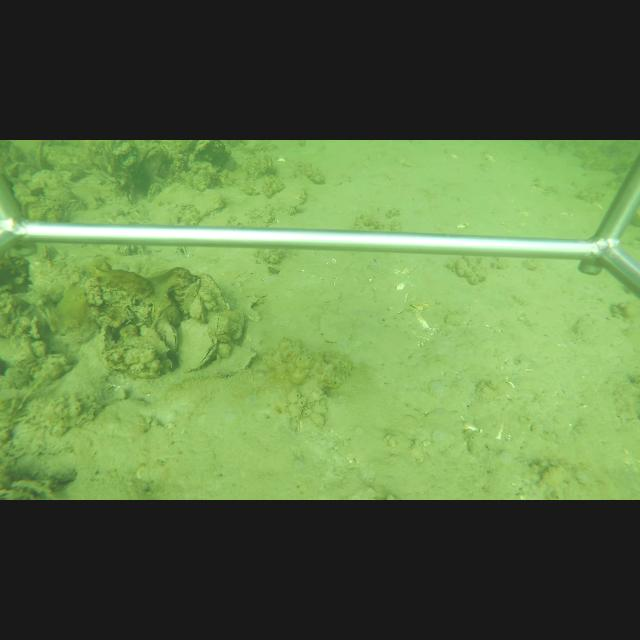Oyster-Closed: (179, 316, 218, 373), (199, 272, 231, 313), (95, 323, 116, 376)
